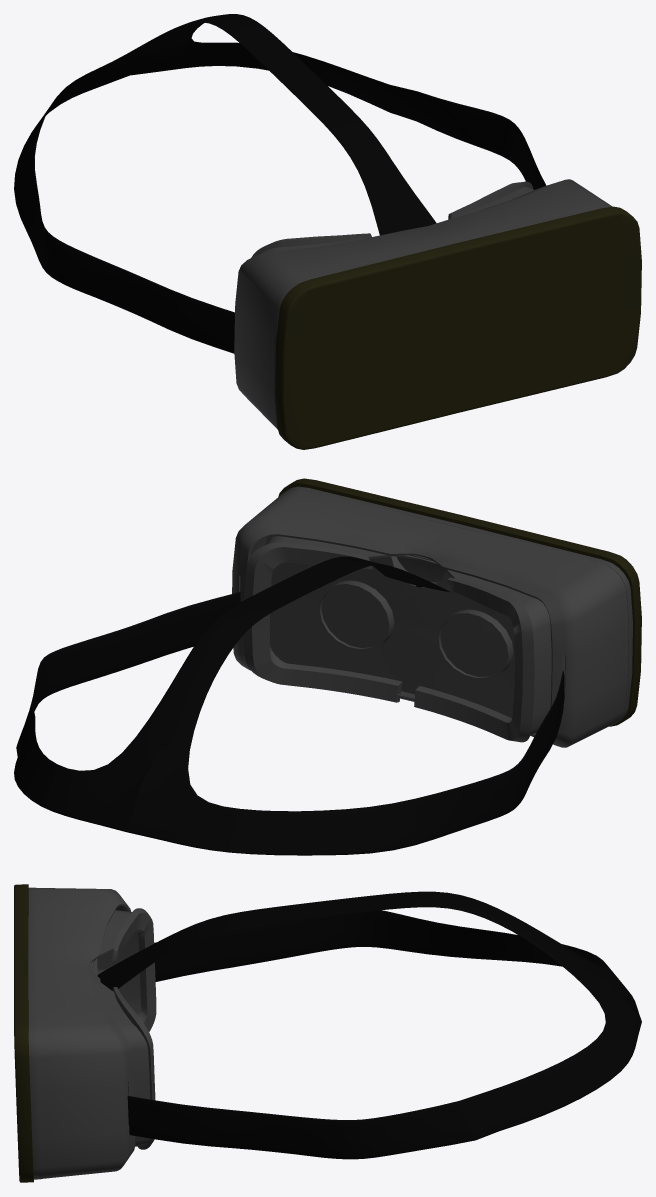
File: helmet.glb
The picture shows the model from 3 angles, top to bottom: view 1: azimuth 30°, elevation 25°; view 2: azimuth 150°, elevation 25°; view 3: azimuth 270°, elevation 25°; orthographic projection. The views are drawn at different scales.
Visible parts, largest first — view 1: vr_helmet; view 2: vr_helmet; view 3: vr_helmet.
Part boxes in pixels (x1,y1,x2,y2): vr_helmet: [14, 14, 641, 449]; vr_helmet: [14, 478, 641, 855]; vr_helmet: [14, 884, 641, 1182].
Bounding box in the file's own units: 1.85 × 0.863 × 2.31.
